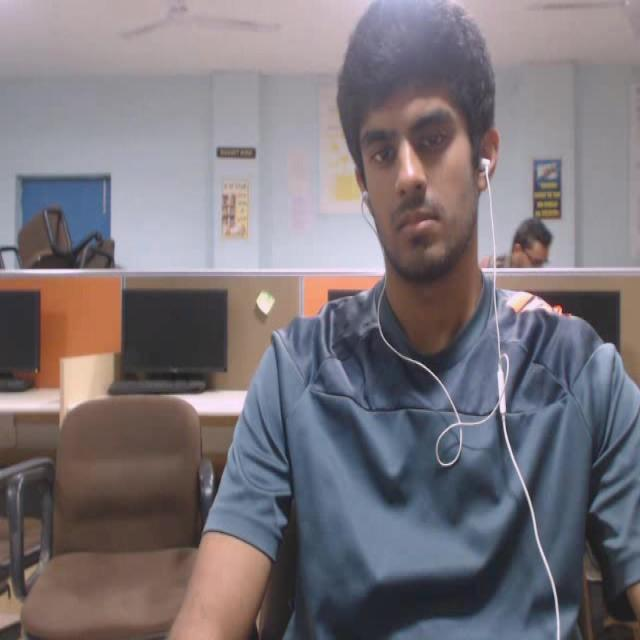Bored: (294, 0, 522, 311)
